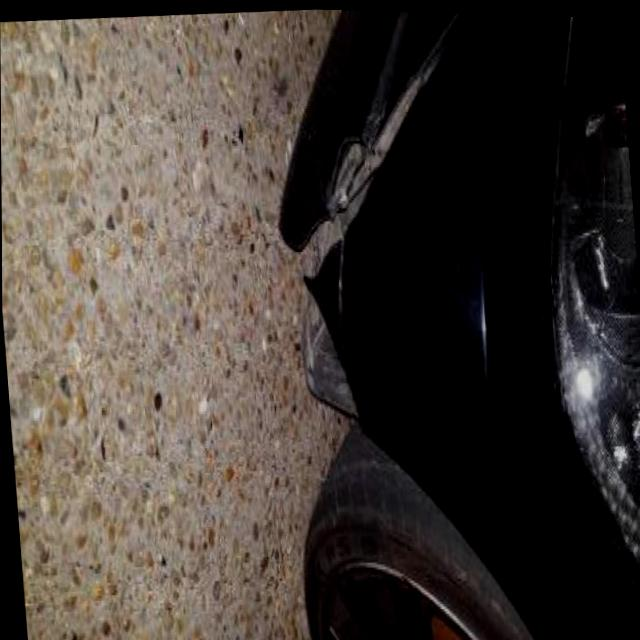Crack: (275, 13, 472, 320)
